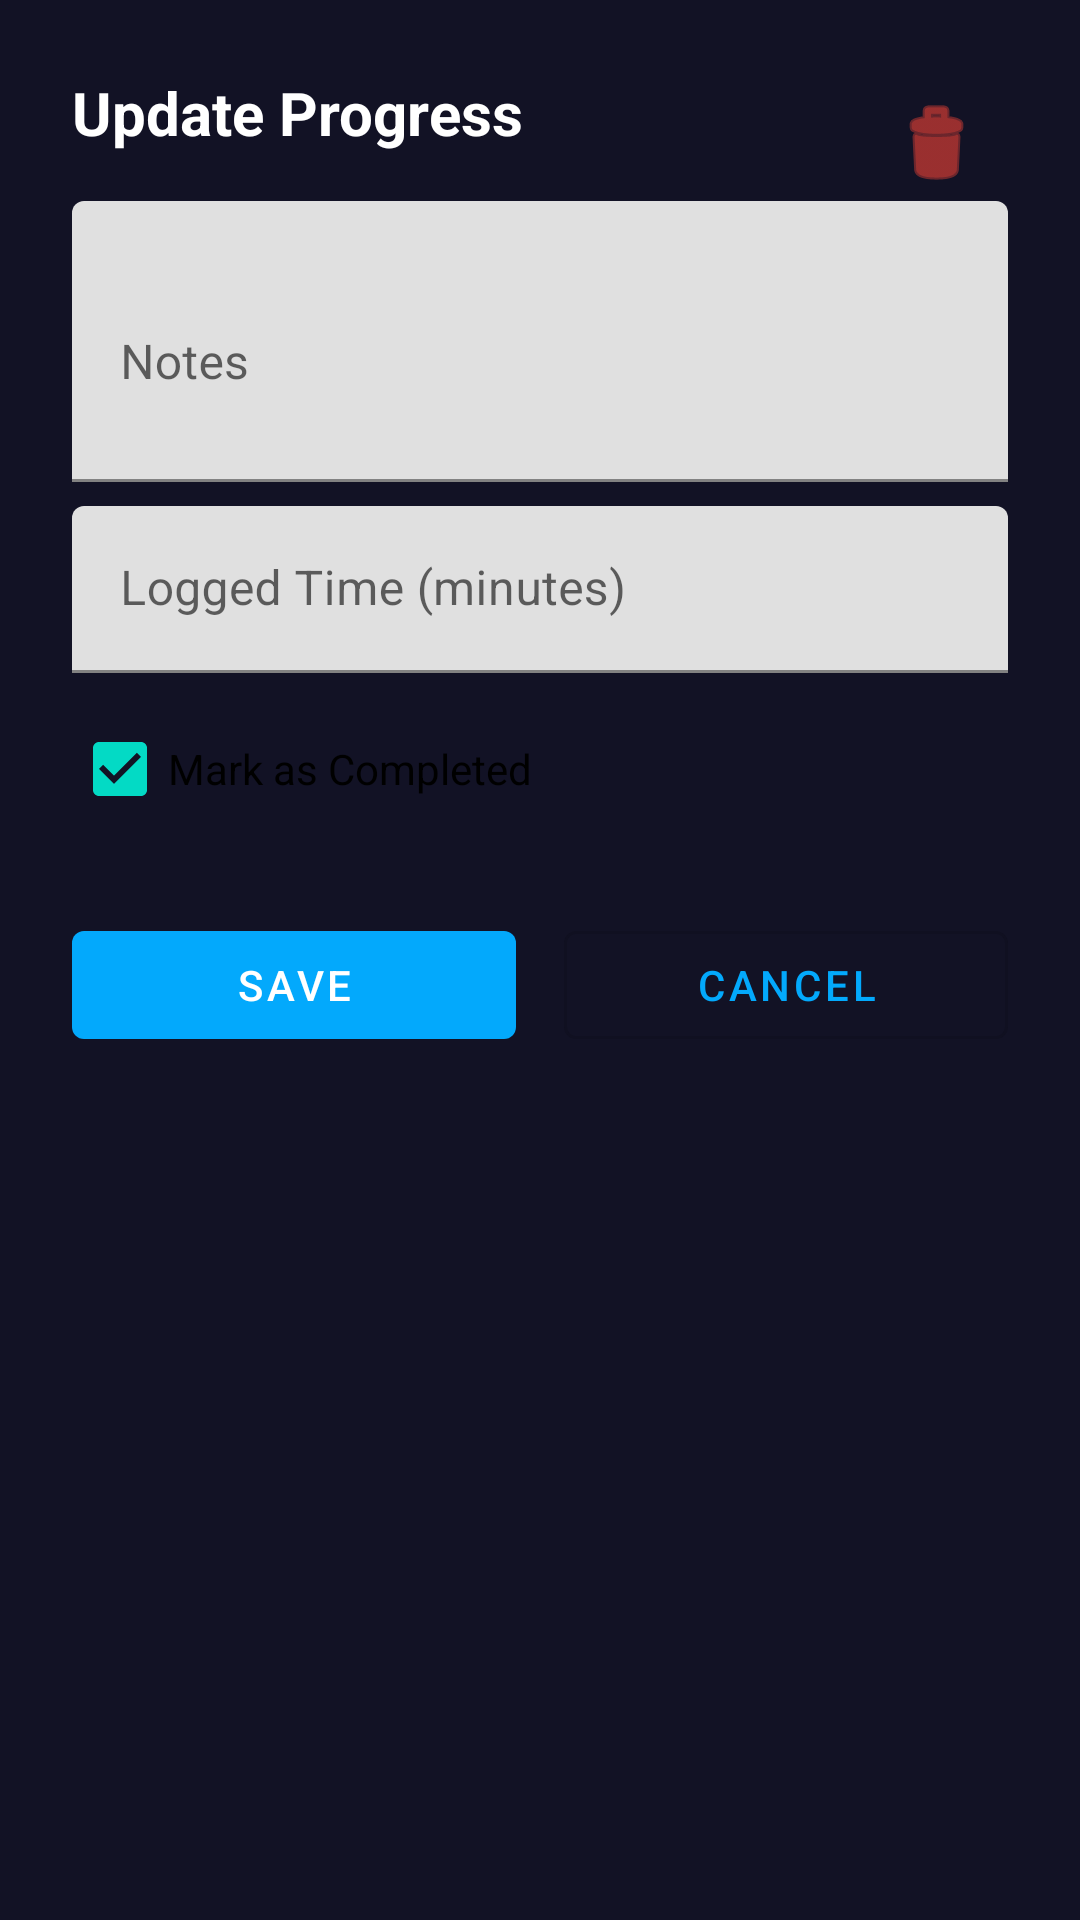

Icons on this 1080px x 1920px Android screen, each with the point to tap as point (x, y):
Delete: point (936, 142)
